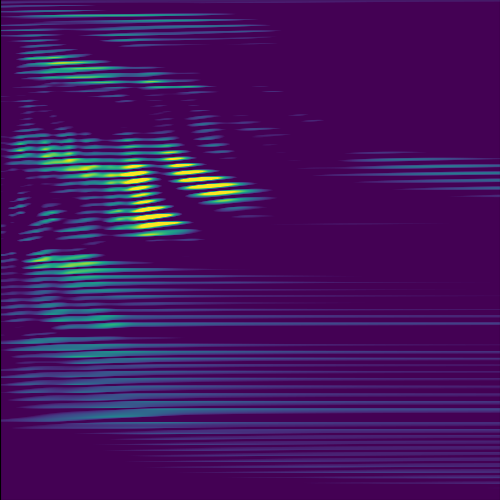semblance: (116, 160, 185, 243), (31, 39, 117, 89), (44, 138, 103, 180)
